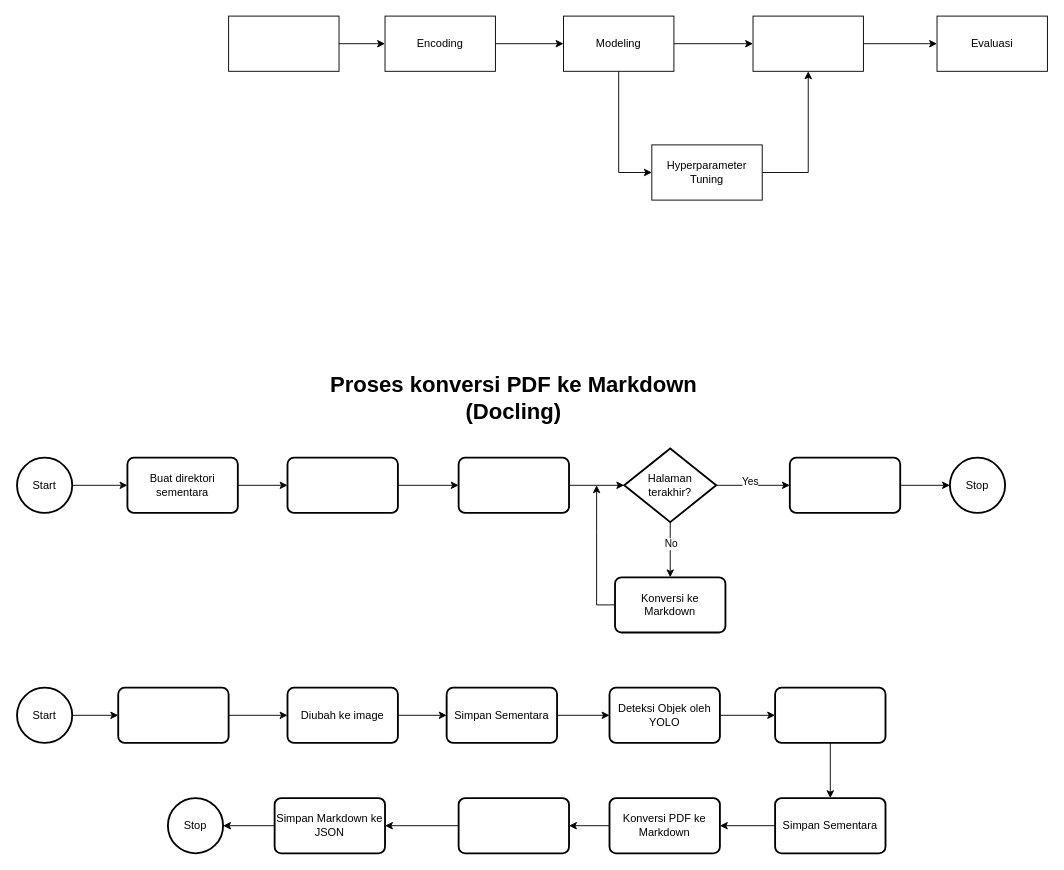
Image size: 1064x870. Some labels were removed from this diagram. The box of each missing label's shape, as (x1, y1, x2, y2) in pixels:
Baca PDF: (286, 456, 398, 513)
Halaman PDF: (117, 686, 229, 743)
hapus direktori sementara: (788, 456, 901, 513)
hapus file sementara: (457, 797, 569, 854)
Hapus Objek yang dideteksi pada halaman PDF: (774, 686, 886, 743)
Iterasi per halaman: (457, 456, 569, 513)
Pengumpulan Data: (228, 15, 339, 71)
Training: (752, 15, 863, 71)
